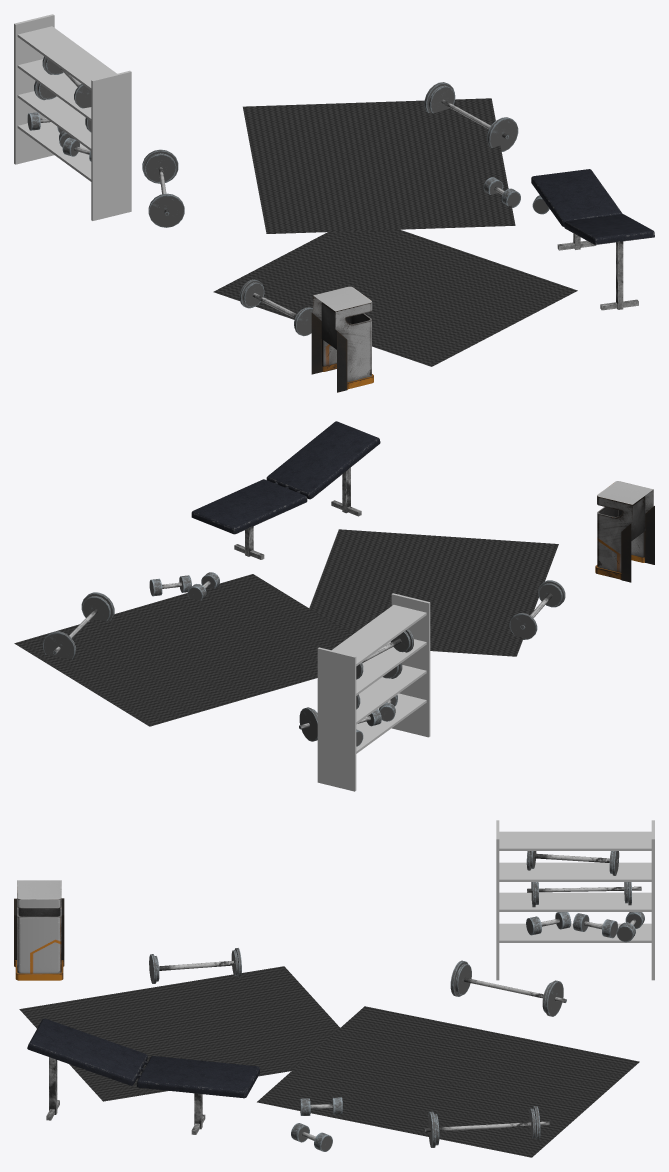
Rendered from Gym.fbx.
The picture shows the model from 3 angles, top to bottom: view 1: azimuth 30°, elevation 25°; view 2: azimuth 150°, elevation 25°; view 3: azimuth 270°, elevation 25°; orthographic projection. The views are drawn at different scales.
Visible parts, largest first — view 1: Plane.002, Cube.045, Cube.049, Bin.004, Cube.051, Cube.047, Cube.052, Cube.053, Cube.048; view 2: Plane.002, Cube.045, Cube.049, Bin.004, Cube.047, Cube.052, Cube.053, Cube.051; view 3: Plane.002, Cube.045, Cube.049, Bin.004, Cube.051, Cube.047, Cube.052, Cube.054, Cube.053, Cube.050, Cube.056, Cube.055 (+2 smaller).
Part boxes in pixels (box(x1,y1,x2,y2)): Plane.002: box(213, 98, 577, 366); Cube.045: box(14, 14, 131, 220); Cube.049: box(531, 169, 654, 310); Bin.004: box(311, 286, 373, 392); Cube.051: box(142, 149, 184, 227); Cube.047: box(424, 82, 518, 151); Cube.052: box(239, 279, 312, 336); Cube.053: box(42, 56, 91, 108); Cube.048: box(483, 177, 520, 207); Plane.002: box(14, 529, 558, 726); Cube.045: box(317, 593, 430, 791); Cube.049: box(191, 421, 380, 559); Bin.004: box(595, 481, 654, 582); Cube.047: box(43, 592, 114, 659); Cube.052: box(509, 580, 565, 639); Cube.053: box(356, 629, 413, 679); Cube.051: box(299, 707, 317, 741); Plane.002: box(19, 966, 639, 1157); Cube.045: box(496, 820, 654, 980); Cube.049: box(27, 1018, 259, 1134); Bin.004: box(14, 880, 64, 980); Cube.051: box(450, 960, 566, 1016); Cube.047: box(424, 1106, 549, 1147); Cube.052: box(149, 948, 241, 983); Cube.054: box(527, 882, 641, 907); Cube.053: box(526, 851, 619, 875); Cube.050: box(291, 1123, 332, 1151); Cube.056: box(573, 913, 617, 938); Cube.055: box(526, 912, 571, 935).
Bounding box in the file's own units: 680 × 228 × 899.
